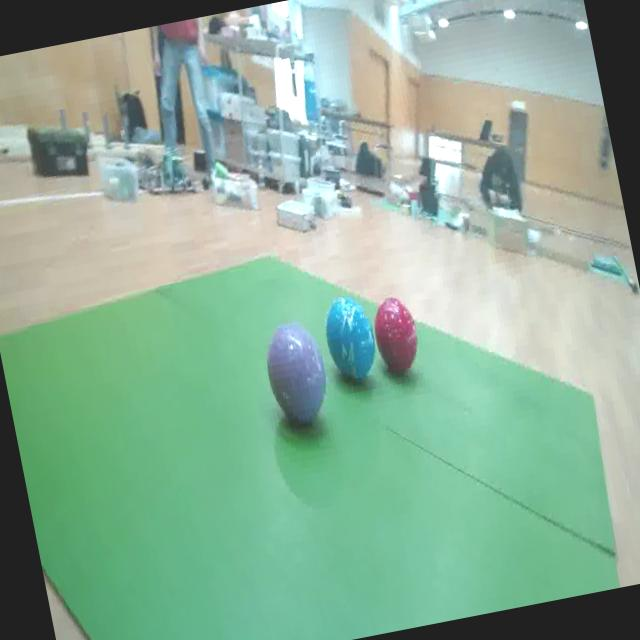blue_ball: (322, 296, 382, 386)
purple_ball: (261, 318, 333, 426)
red_ball: (371, 294, 424, 378)
